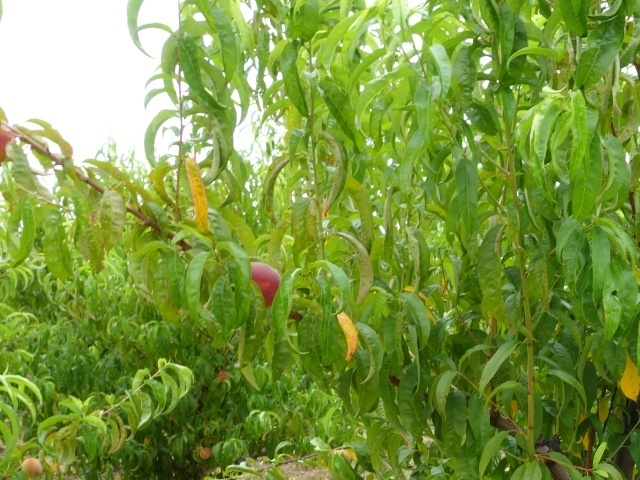peach: (243, 256, 289, 309), (1, 120, 17, 168), (18, 455, 45, 479)
